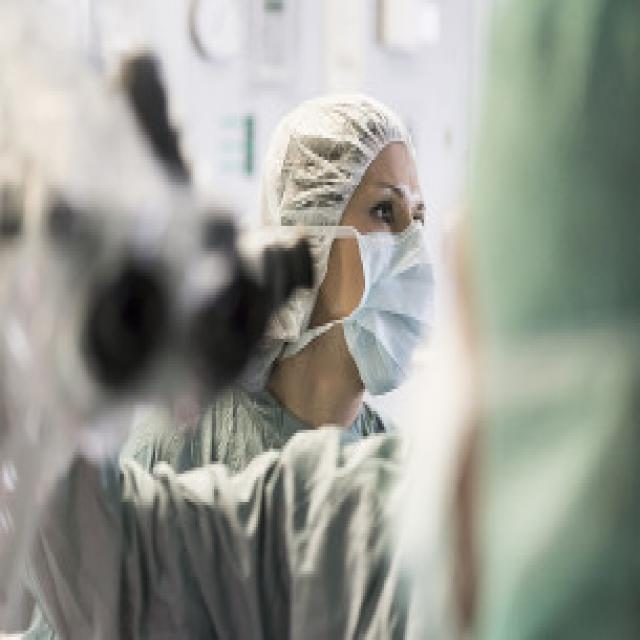mask: (336, 160, 432, 386)
